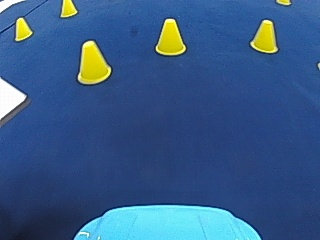cone: (76, 38, 111, 83), (154, 17, 186, 55), (249, 18, 278, 52), (13, 16, 32, 40), (59, 0, 76, 17)
